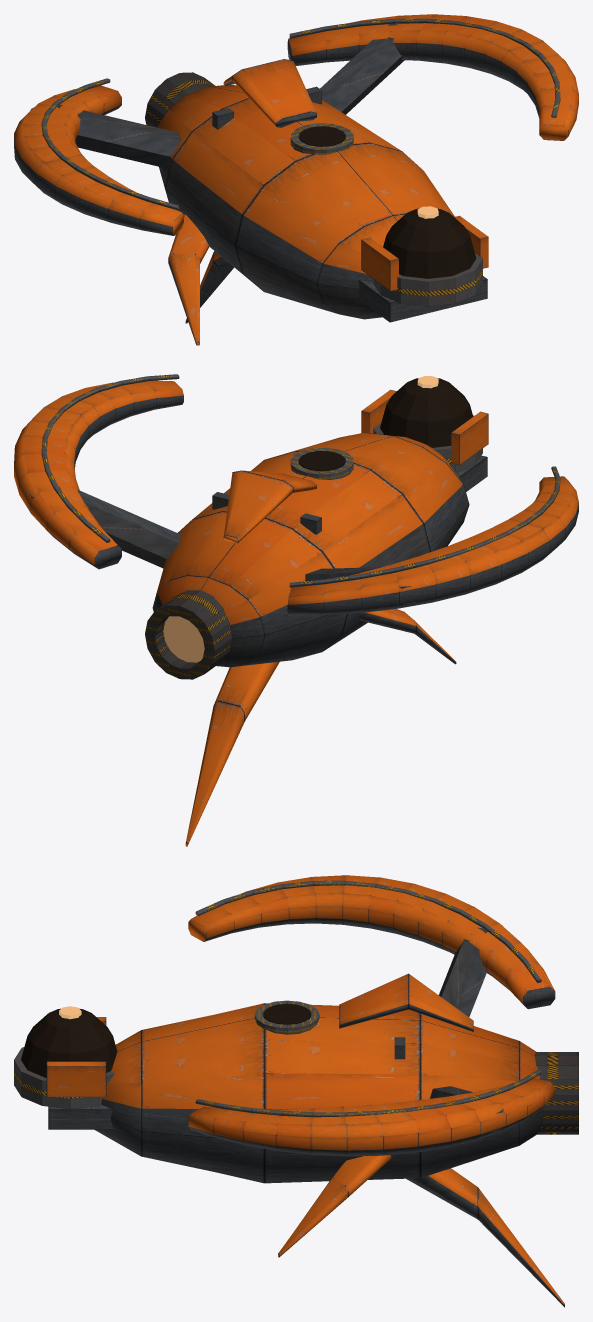
File: pioneer-saturn-l06-shield.glb
The picture shows the model from 3 angles, top to bottom: view 1: azimuth 30°, elevation 25°; view 2: azimuth 150°, elevation 25°; view 3: azimuth 270°, elevation 25°; orthographic projection. The views are drawn at different scales.
Visible parts, largest first — view 1: Drone; view 2: Drone; view 3: Drone.
Part boxes in pixels (<box>): Drone: <box>14,14,578,345</box>; Drone: <box>14,374,578,846</box>; Drone: <box>14,875,578,1307</box>.
Bounding box in the file's own units: 1.4 × 0.82 × 1.3.
3 materials, 3 textured.
